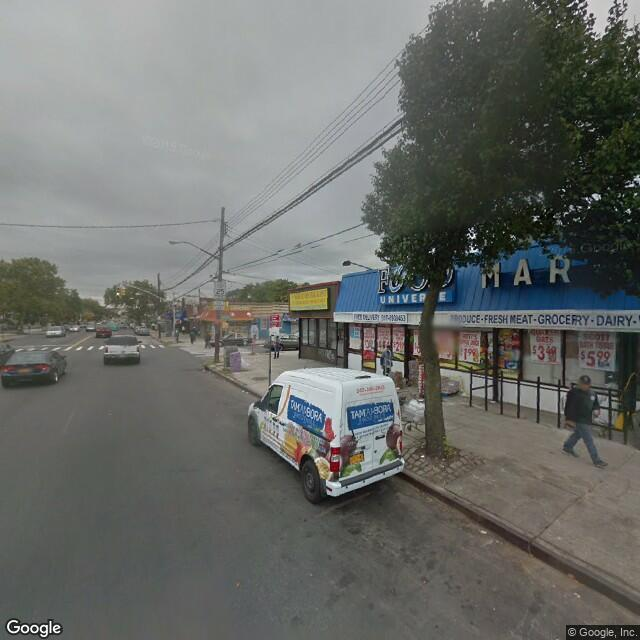litter: (571, 590, 580, 598), (478, 527, 486, 533), (418, 452, 426, 458), (491, 398, 497, 405), (240, 388, 248, 393)
